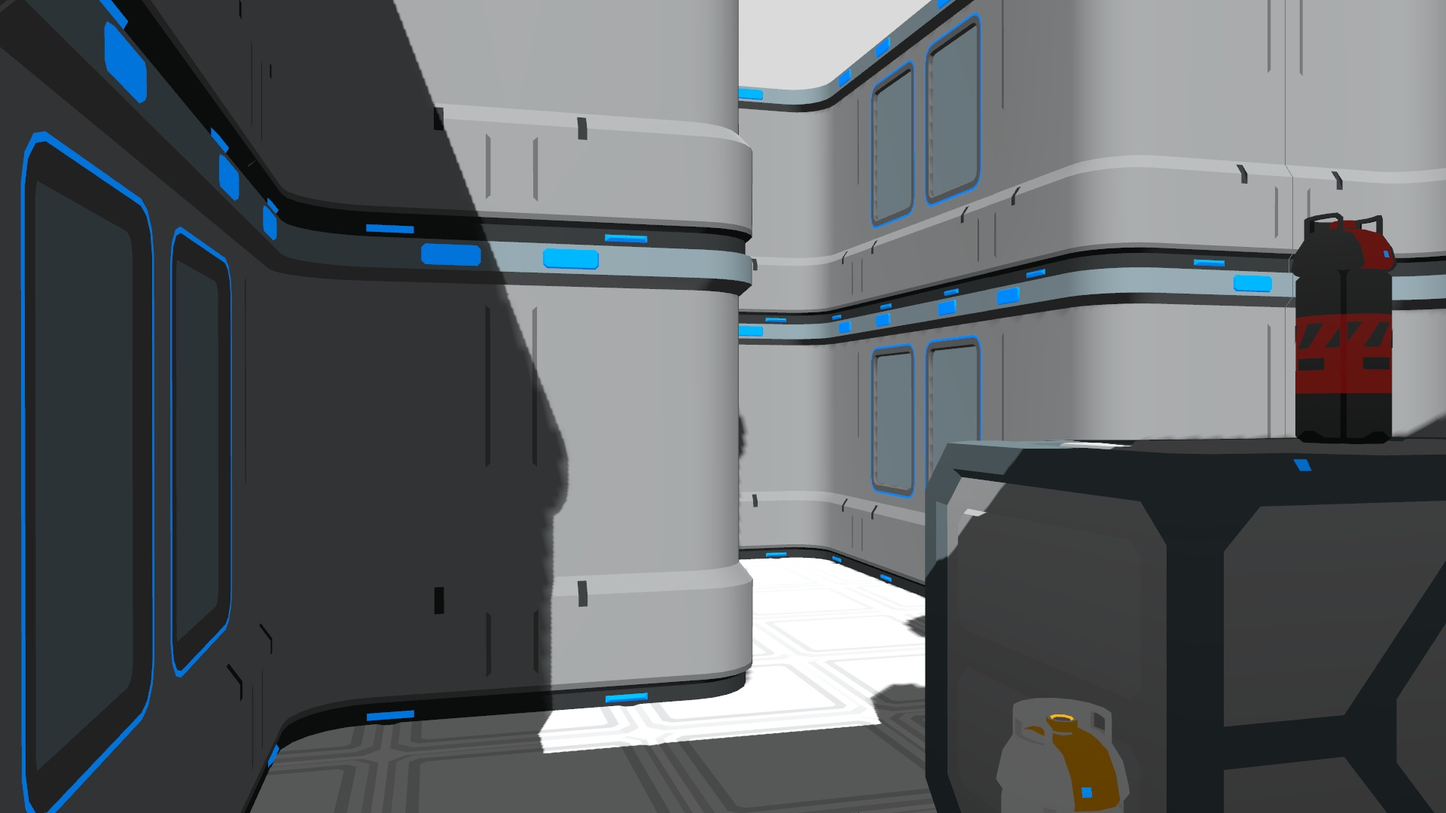red_barrel: (1287, 207, 1401, 451)
yellow_barrel: (991, 688, 1133, 813)
